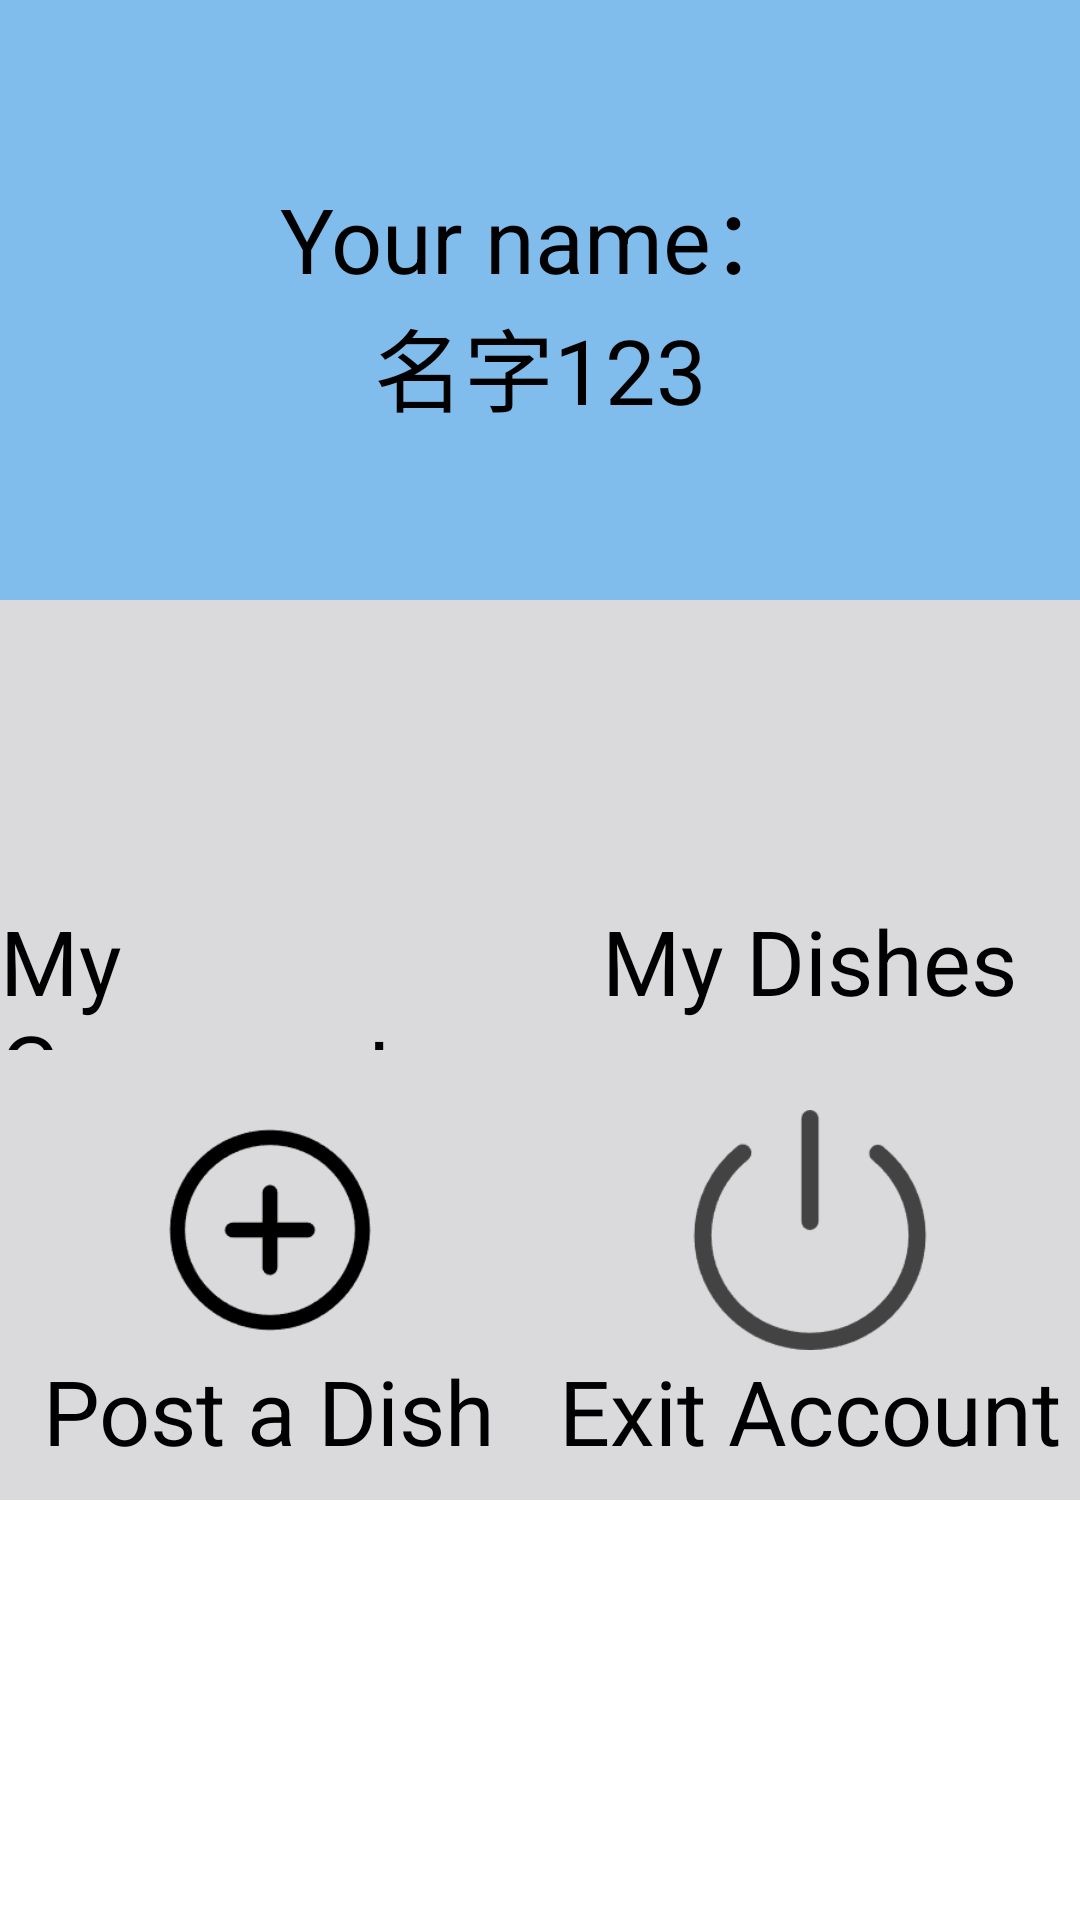

Point at icon controls on the screen. Image size 1080*1920, points as (x=x, y=y).
add: (x=270, y=1230)
